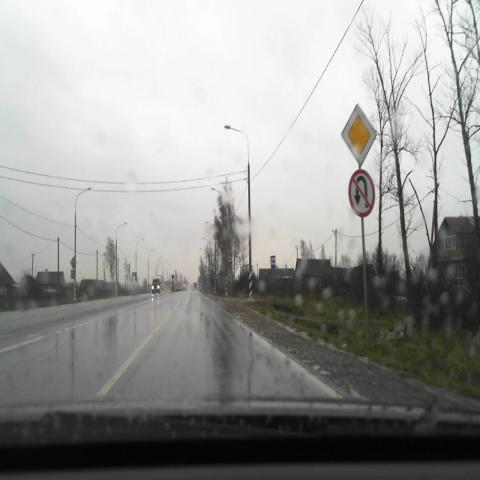3_19: (348, 170, 374, 217)
